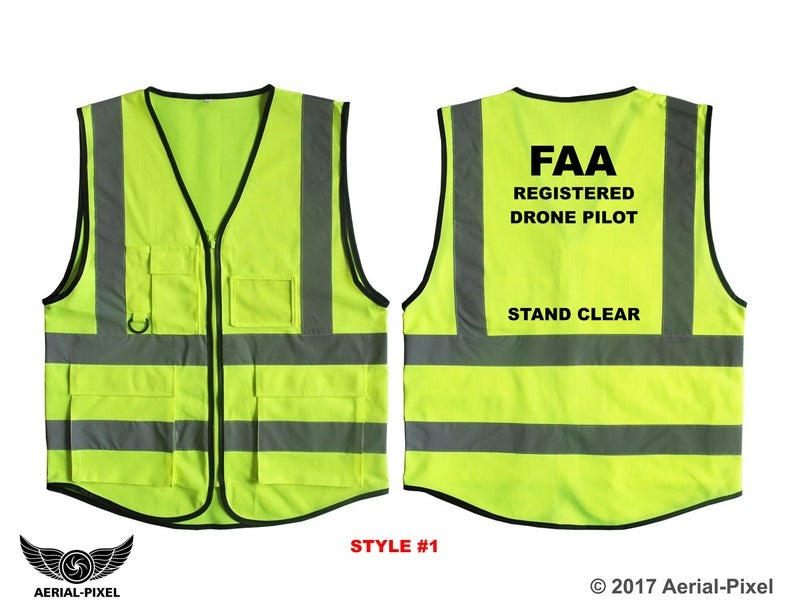safety vest: (401, 87, 744, 524), (53, 88, 392, 527)
